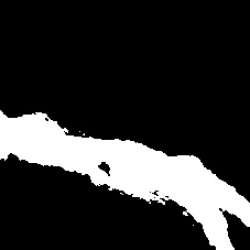crack: (1, 109, 247, 247)
